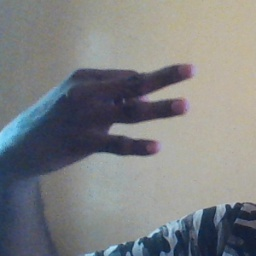K: (32, 62, 199, 168)
